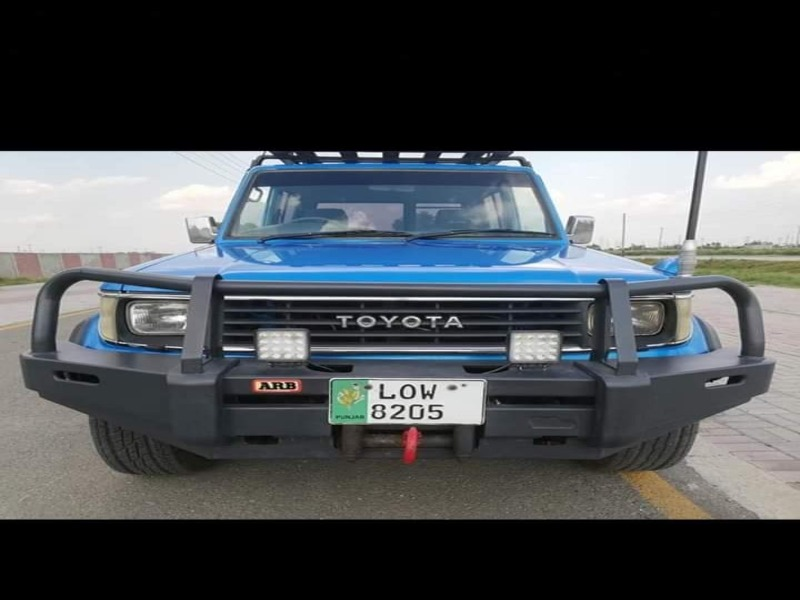License Plate: (326, 373, 491, 431)
